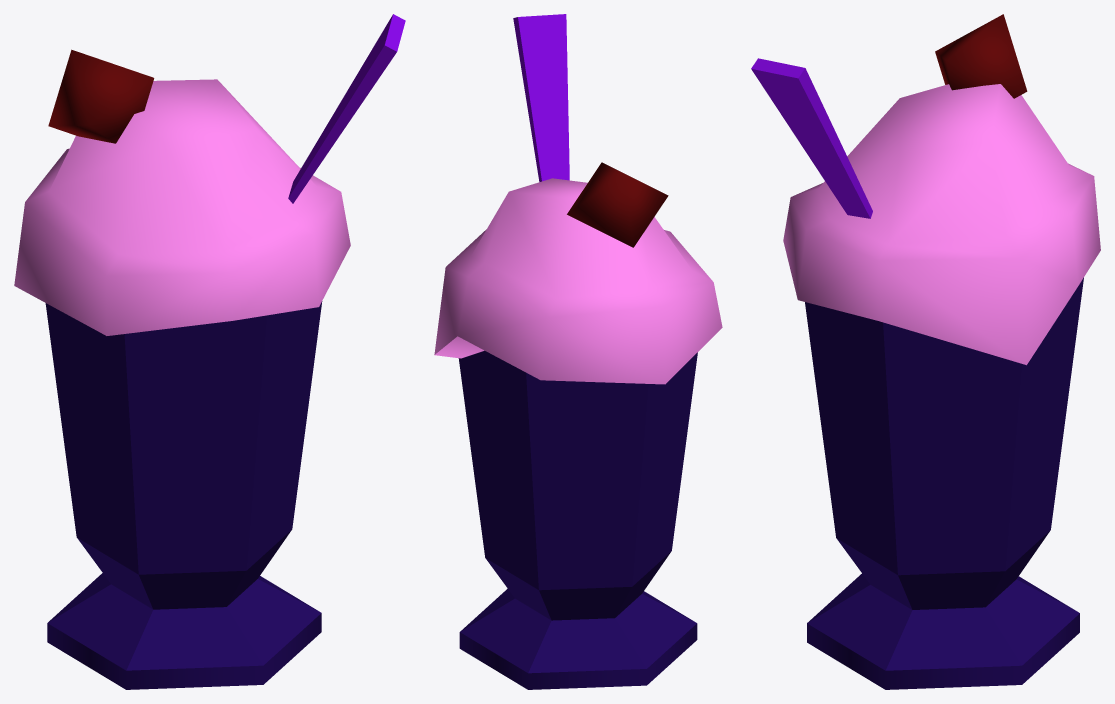
File: icecup_purplepink.FBX
The picture shows the model from 3 angles, left to right: view 1: azimuth 30°, elevation 25°; view 2: azimuth 150°, elevation 25°; view 3: azimuth 270°, elevation 25°; orthographic projection. The views are drawn at different scales.
Parts seen in each view (by area): view 1: icecup_purplepink; view 2: icecup_purplepink; view 3: icecup_purplepink.
Boxes of the visible parts, left/top/right/bottom form: icecup_purplepink: left=14, top=14, right=405, bottom=689; icecup_purplepink: left=434, top=14, right=722, bottom=689; icecup_purplepink: left=751, top=14, right=1100, bottom=689.
Bounding box in the file's own units: 35.02 × 75.52 × 37.58.
